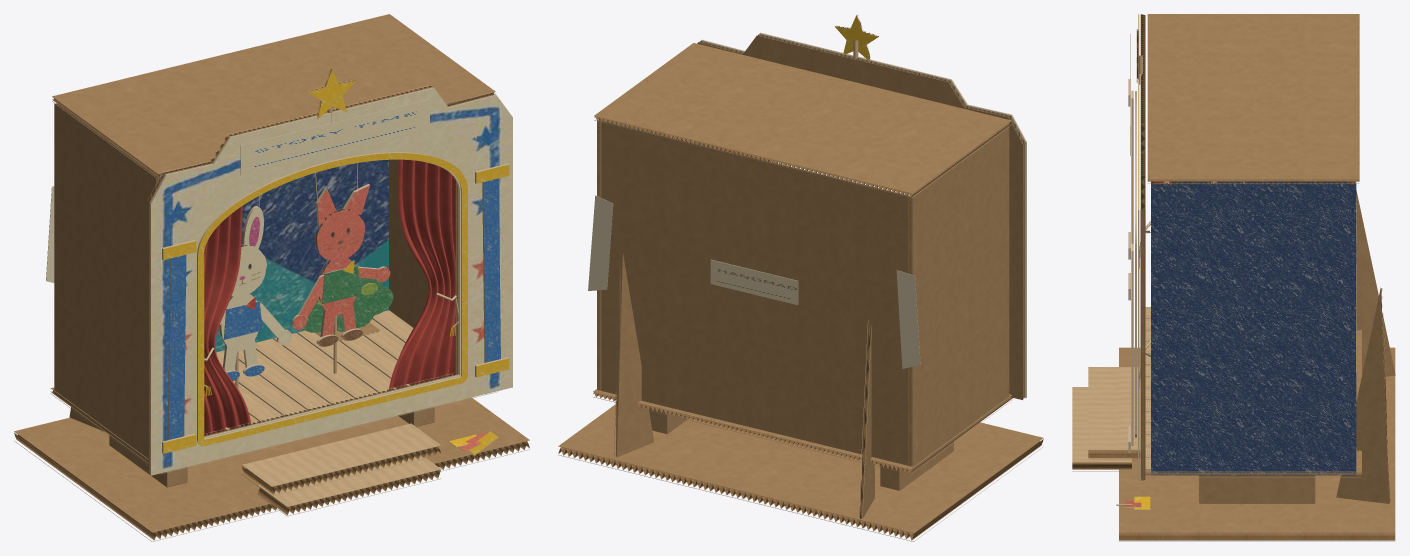
Rendered from 19_cardboard_puppet_theatre.glb.
The picture shows the model from 3 angles, left to right: view 1: azimuth 30°, elevation 25°; view 2: azimuth 150°, elevation 25°; view 3: azimuth 270°, elevation 25°; orthographic projection. The views are drawn at different scales.
Parts seen in each view (by area): view 1: kraft, artwork_19_cardboard_puppet_theatre, wood, tissue_red, edge, yellow, flute, blue, coral, green, cream; view 2: kraft, flute, edge, tape, artwork_19_cardboard_puppet_theatre, cream, yellow; view 3: navy, kraft, flute, wood, edge.
Part boxes in pixels (<box>): kraft: <box>14,14,529,532</box>; artwork_19_cardboard_puppet_theatre: <box>151,88,512,475</box>; wood: <box>216,106,441,506</box>; tissue_red: <box>204,159,455,435</box>; edge: <box>14,69,529,541</box>; yellow: <box>163,69,509,455</box>; flute: <box>14,69,529,540</box>; blue: <box>168,178,500,439</box>; coral: <box>293,185,485,451</box>; green: <box>303,265,393,332</box>; cream: <box>220,207,436,371</box>; kraft: <box>558,35,1043,532</box>; flute: <box>558,15,1043,540</box>; edge: <box>558,14,1043,541</box>; tape: <box>588,195,920,368</box>; artwork_19_cardboard_puppet_theatre: <box>710,260,797,305</box>; cream: <box>700,33,1025,397</box>; yellow: <box>835,15,877,59</box>; navy: <box>1151,181,1356,475</box>; kraft: <box>1116,14,1395,532</box>; flute: <box>1072,14,1395,540</box>; wood: <box>1072,55,1168,468</box>; edge: <box>1072,14,1394,541</box>.
Size of the model in its own units: 0.49 by 0.521 by 0.3629.
Materials: 20 (18 with a texture image).
